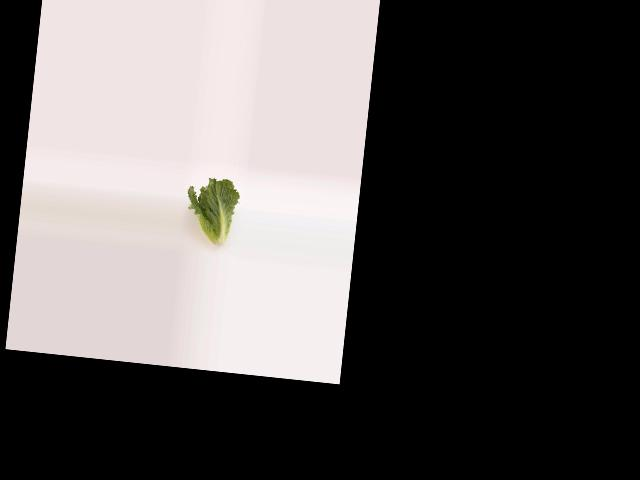lettuce: (184, 173, 242, 254)
